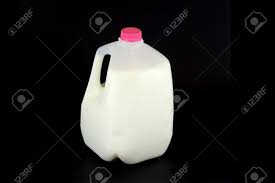milk: (84, 27, 172, 159)
